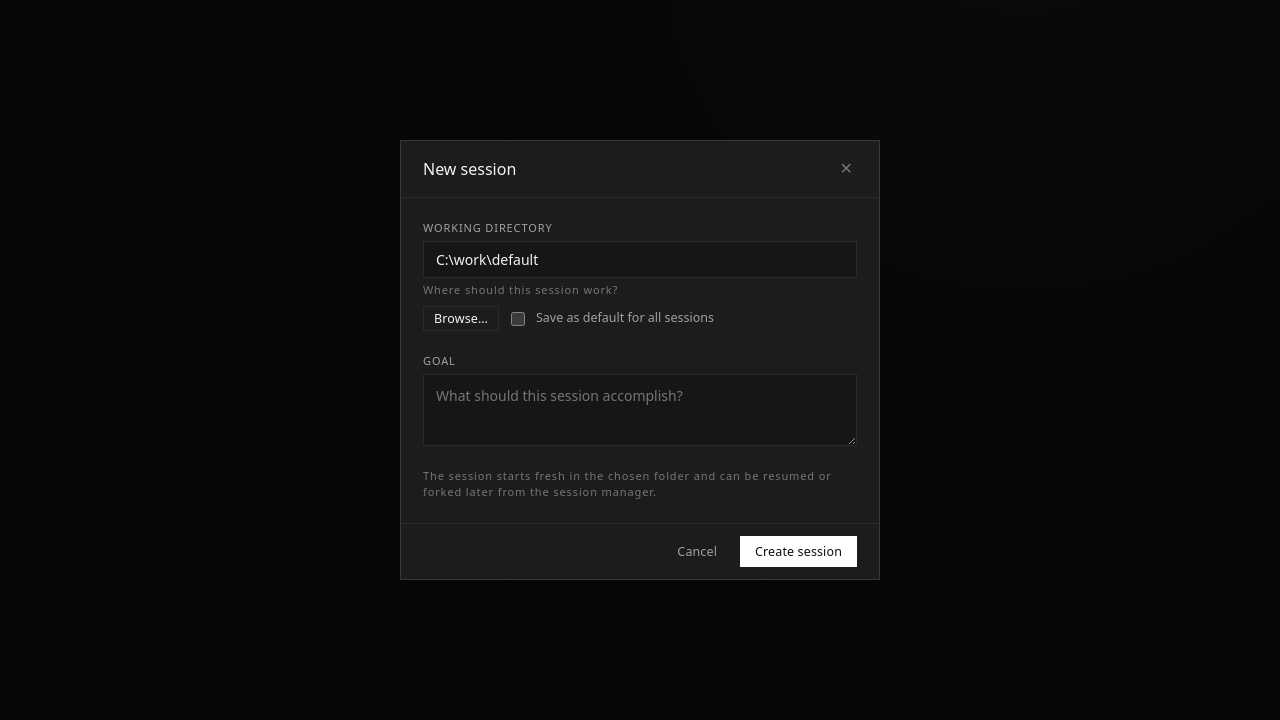
Test case: NewSessionModal › uses the folder picker to set the working directory
Click the button "Browse…" at (461, 319), box 423,306 -> 499,331
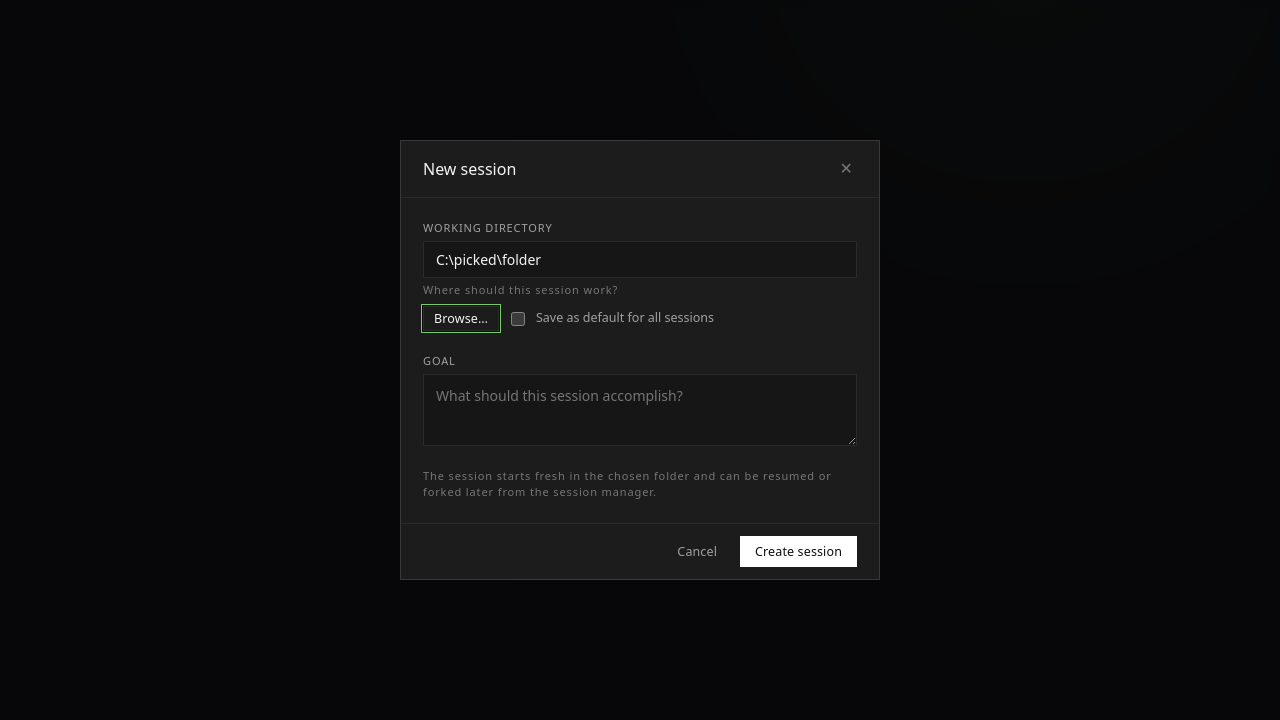
Now the field showing "C:\\picked\\folder" is shown, box 436,242 -> 844,277
